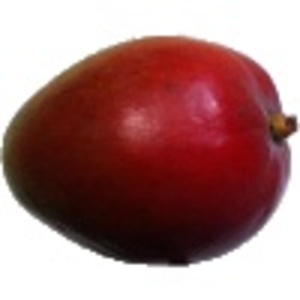manga: (1, 34, 300, 267)
